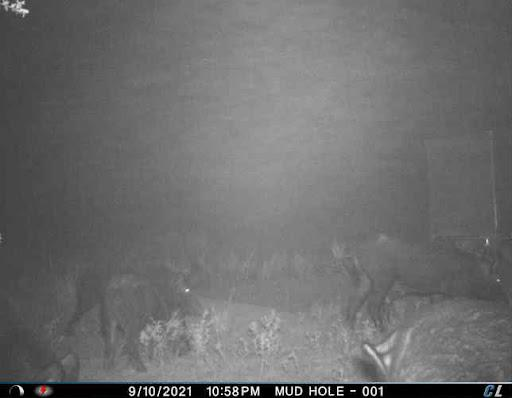Hog: (347, 226, 506, 329), (74, 256, 201, 374), (358, 299, 512, 383)
